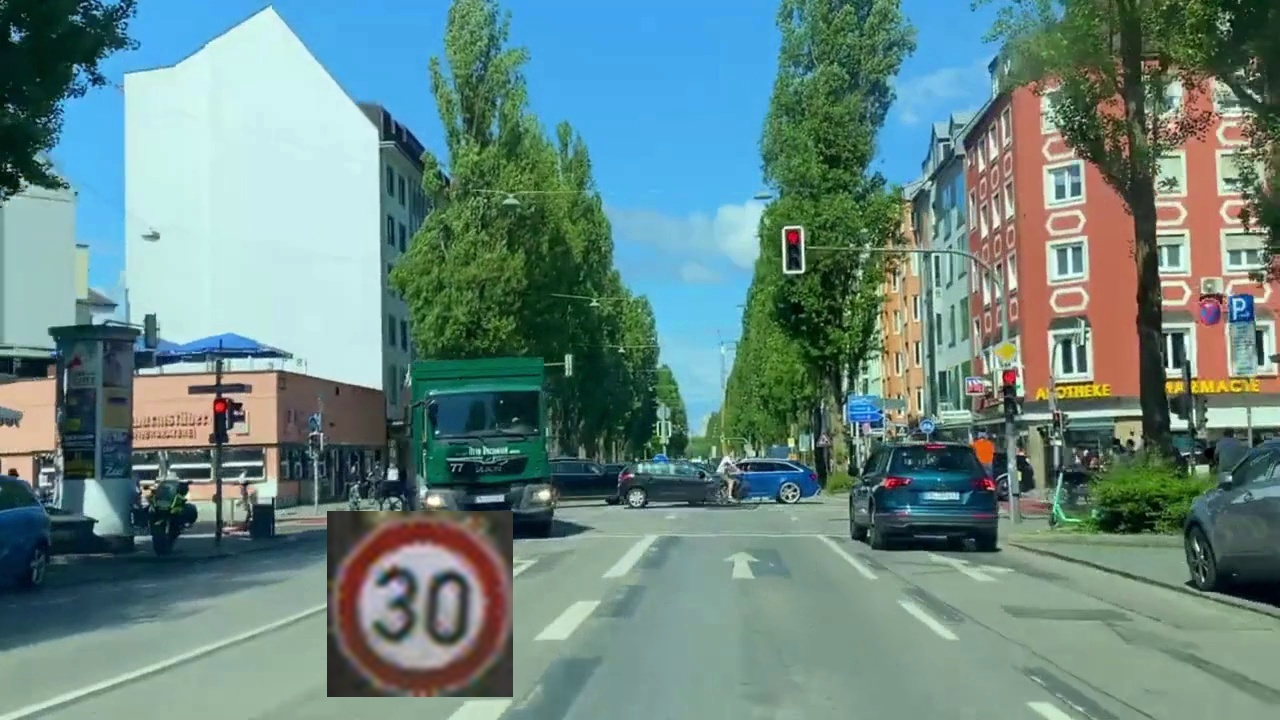Speed 30: (327, 511, 513, 697)
